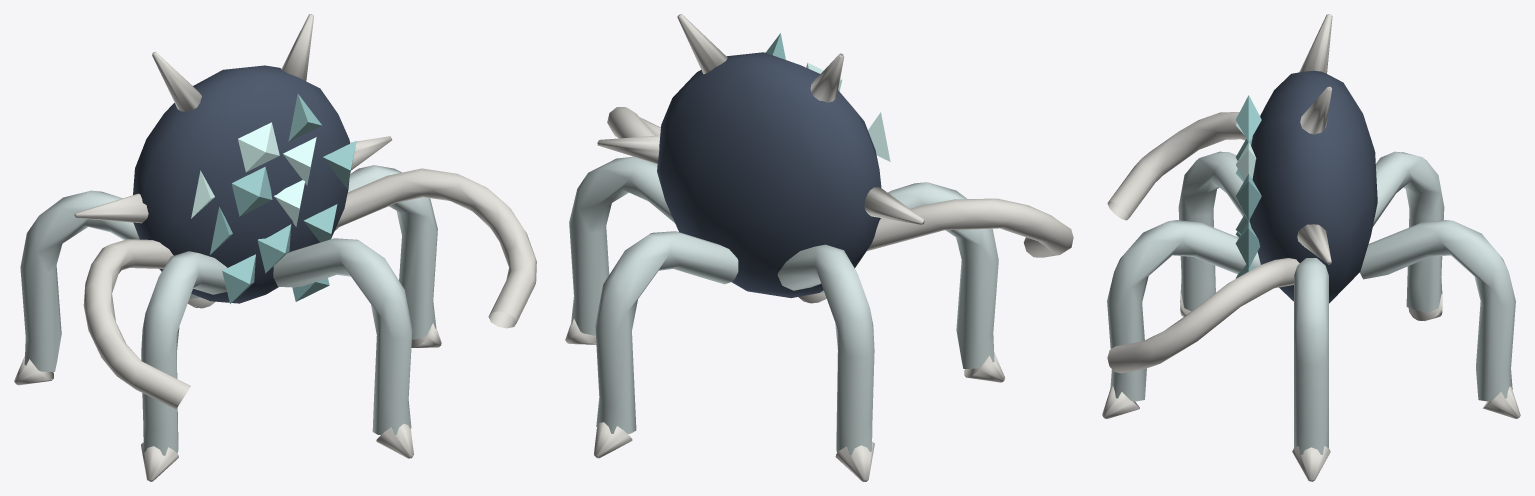
Rendered from bio_crown_stalker_01_far.glb.
The picture shows the model from 3 angles, left to right: view 1: azimuth 30°, elevation 25°; view 2: azimuth 150°, elevation 25°; view 3: azimuth 270°, elevation 25°; orthographic projection. The views are drawn at different scales.
Visible parts, largest first — view 1: Faceted crown substrate, Crooked support.004, Scythe sensory limb.001, Crooked support.002, Crooked support.003, Scythe sensory limb, Compound lens facet.001, Crooked support, Crown radiating blade, Compound lens facet, Contact spur.003, Contact spur.004 (+1 smaller); view 2: Faceted crown substrate, Crooked support.001, Crooked support.002, Crooked support, Crooked support.003, Scythe sensory limb, Crown radiating blade, Scythe sensory limb.001, Contact spur.002, Contact spur.001, Compound lens facet, Contact spur.003; view 3: Faceted crown substrate, Crooked support.001, Crooked support.004, Crooked support, Scythe sensory limb.001, Crooked support.002, Crooked support.003, Scythe sensory limb, Crown radiating blade, Compound lens facet.001, Contact spur, Contact spur.004 (+2 smaller).
Part boxes in pixels (<box>): Faceted crown substrate: <box>133,65,349,303</box>; Crooked support.004: <box>273,238,412,434</box>; Scythe sensory limb.001: <box>336,168,536,328</box>; Crooked support.002: <box>20,190,139,371</box>; Crooked support.003: <box>141,251,227,455</box>; Scythe sensory limb: <box>83,239,190,409</box>; Compound lens facet.001: <box>210,93,356,303</box>; Crooked support: <box>335,165,437,339</box>; Crown radiating blade: <box>74,14,391,223</box>; Compound lens facet: <box>191,122,316,226</box>; Contact spur.003: <box>141,442,178,481</box>; Contact spur.004: <box>376,424,413,458</box>; Faceted crown substrate: <box>657,52,881,298</box>; Crooked support.001: <box>595,231,738,433</box>; Crooked support.002: <box>777,244,874,455</box>; Crooked support: <box>569,156,674,335</box>; Crooked support.003: <box>888,182,998,368</box>; Scythe sensory limb: <box>867,198,1073,257</box>; Crown radiating blade: <box>597,14,924,224</box>; Scythe sensory limb.001: <box>607,107,660,138</box>; Contact spur.002: <box>835,441,874,481</box>; Contact spur.001: <box>594,422,632,458</box>; Compound lens facet: <box>806,62,890,161</box>; Contact spur.003: <box>964,353,1004,382</box>; Faceted crown substrate: <box>1249,70,1377,303</box>; Crooked support.001: <box>1360,220,1515,401</box>; Crooked support.004: <box>1107,220,1260,401</box>; Crooked support: <box>1294,258,1328,454</box>; Scythe sensory limb.001: <box>1107,258,1299,373</box>; Crooked support.002: <box>1373,151,1444,312</box>; Crooked support.003: <box>1178,151,1244,311</box>; Scythe sensory limb: <box>1107,112,1246,220</box>; Crown radiating blade: <box>1297,14,1332,264</box>; Compound lens facet.001: <box>1235,95,1261,278</box>; Contact spur: <box>1292,446,1330,481</box>; Contact spur.004: <box>1102,385,1139,418</box>.
Bounding box in the file's own units: 2.59 × 2.03 × 2.27.
